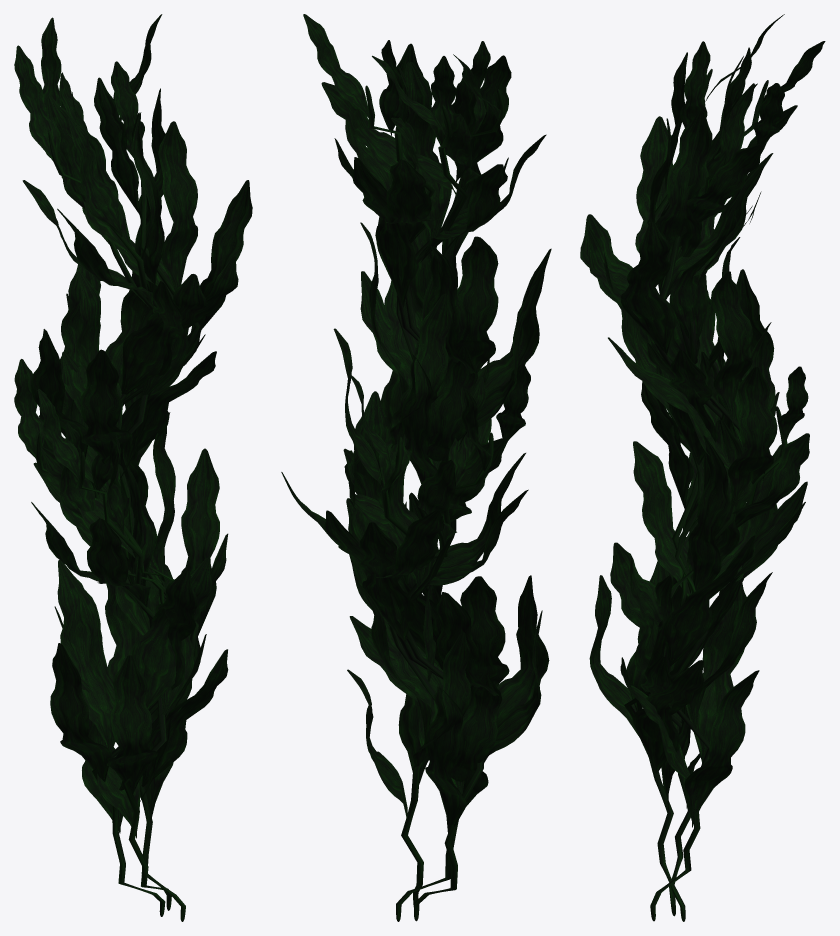
File: claret_tall_seaweed.glb
3 renders of one model, left to right at view 1: azimuth 30°, elevation 25°; view 2: azimuth 150°, elevation 25°; view 3: azimuth 270°, elevation 25°, orthographic. The views are drawn at different scales.
Visible parts, largest first — view 1: TallSeaweed; view 2: TallSeaweed; view 3: TallSeaweed.
Part boxes in pixels (x1=…): TallSeaweed: x1=14, y1=14, x2=252, y2=921; TallSeaweed: x1=281, y1=14, x2=551, y2=921; TallSeaweed: x1=580, y1=14, x2=825, y2=921.
Bounding box in the file's own units: 0.4965 × 2 × 0.5176.
1 material, 1 textured.
